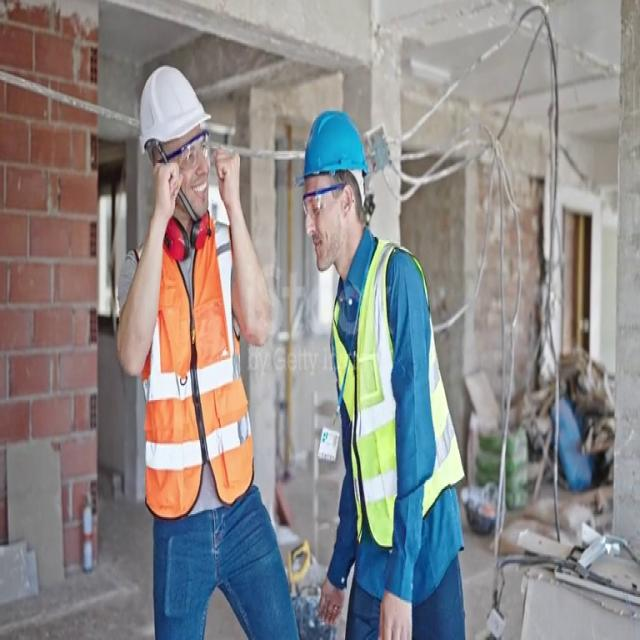capacete: (279, 82, 377, 204), (124, 57, 220, 165)
